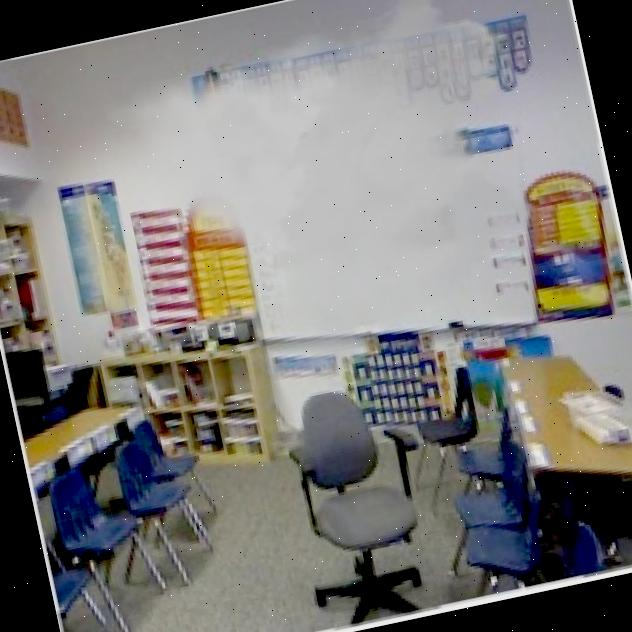smoke: (91, 0, 569, 425)
